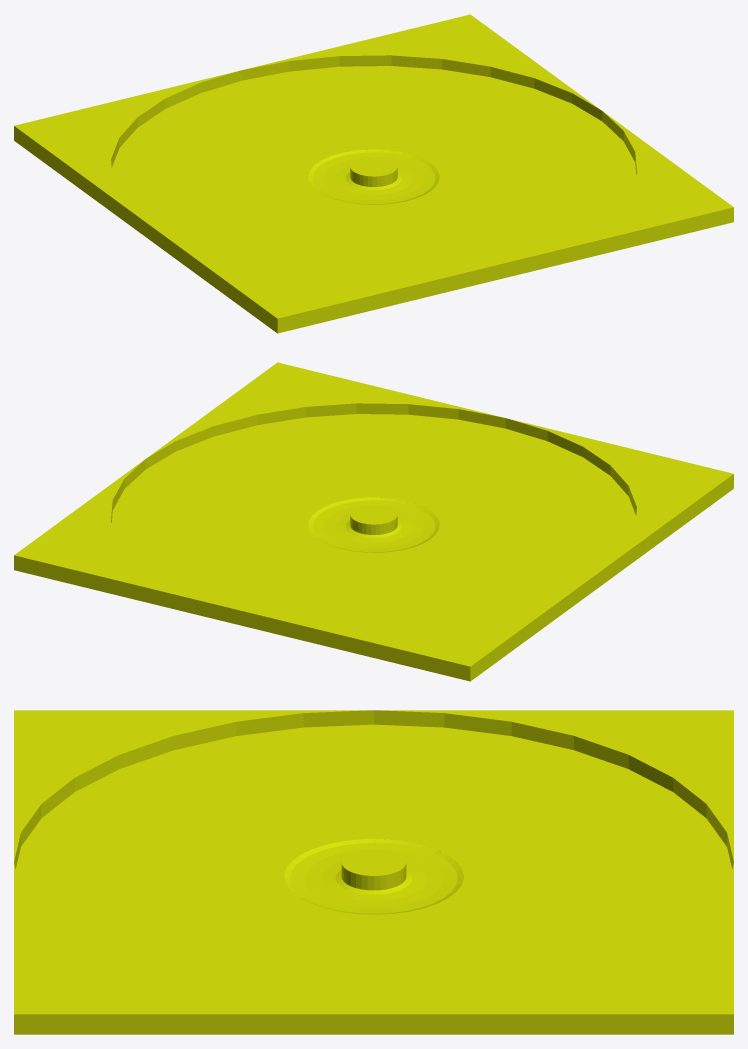
The model's file is CD Model Socket.fbx.
The picture shows the model from 3 angles, top to bottom: view 1: azimuth 30°, elevation 25°; view 2: azimuth 150°, elevation 25°; view 3: azimuth 270°, elevation 25°; orthographic projection. The views are drawn at different scales.
Parts seen in each view (by area): view 1: CD Socket Placeholder; view 2: CD Socket Placeholder; view 3: CD Socket Placeholder.
Part boxes in pixels (bbox=[...]): CD Socket Placeholder: bbox=[14, 14, 733, 333]; CD Socket Placeholder: bbox=[14, 362, 733, 681]; CD Socket Placeholder: bbox=[14, 710, 733, 1034].
Bounding box in the file's own units: 200 × 200 × 6.23.
